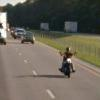Motorcycle: (49, 46, 86, 81)
